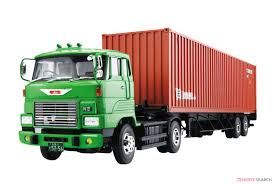truck: (18, 26, 258, 166)
